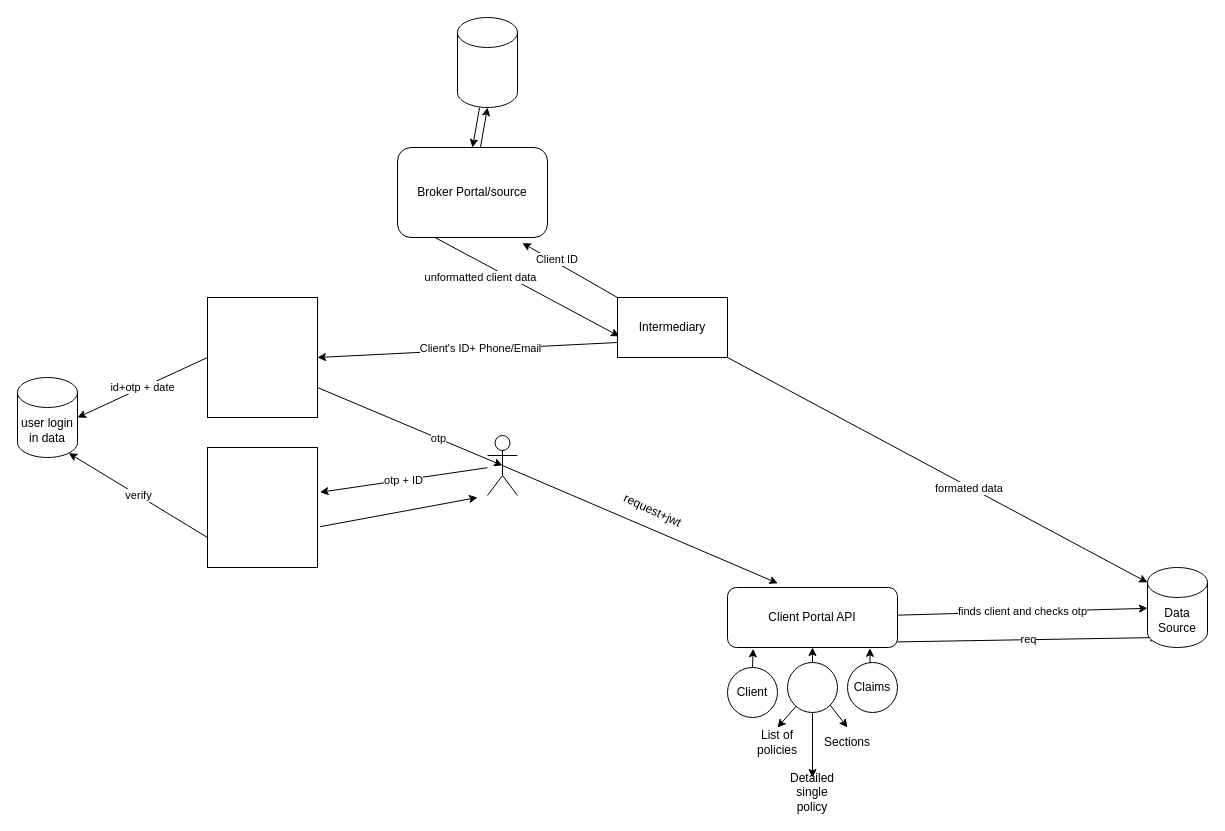
The diagram is 1225 pixels wide and 831 high, and some of its shapes have lost their labels. The centre of each missing label's shape, as x and y in pixels:
create jwt: pixel 262 507
create OTP: pixel 262 357
Policies: pixel 812 687
User: pixel 502 465
